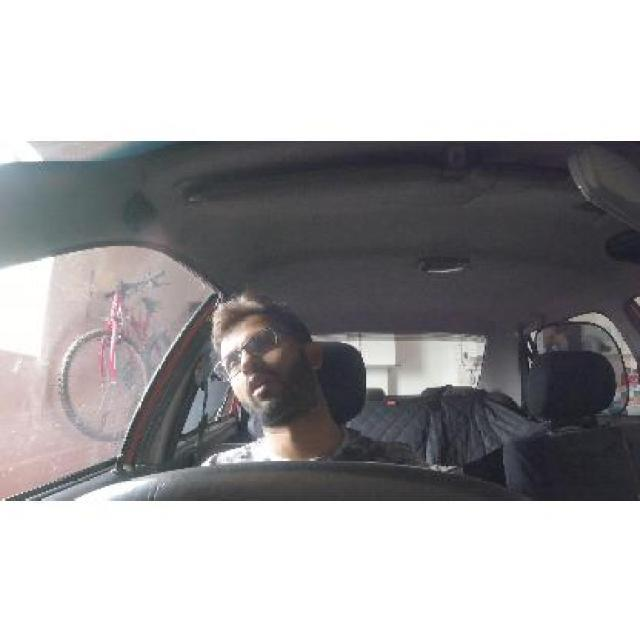drowsy: (208, 283, 335, 439)
